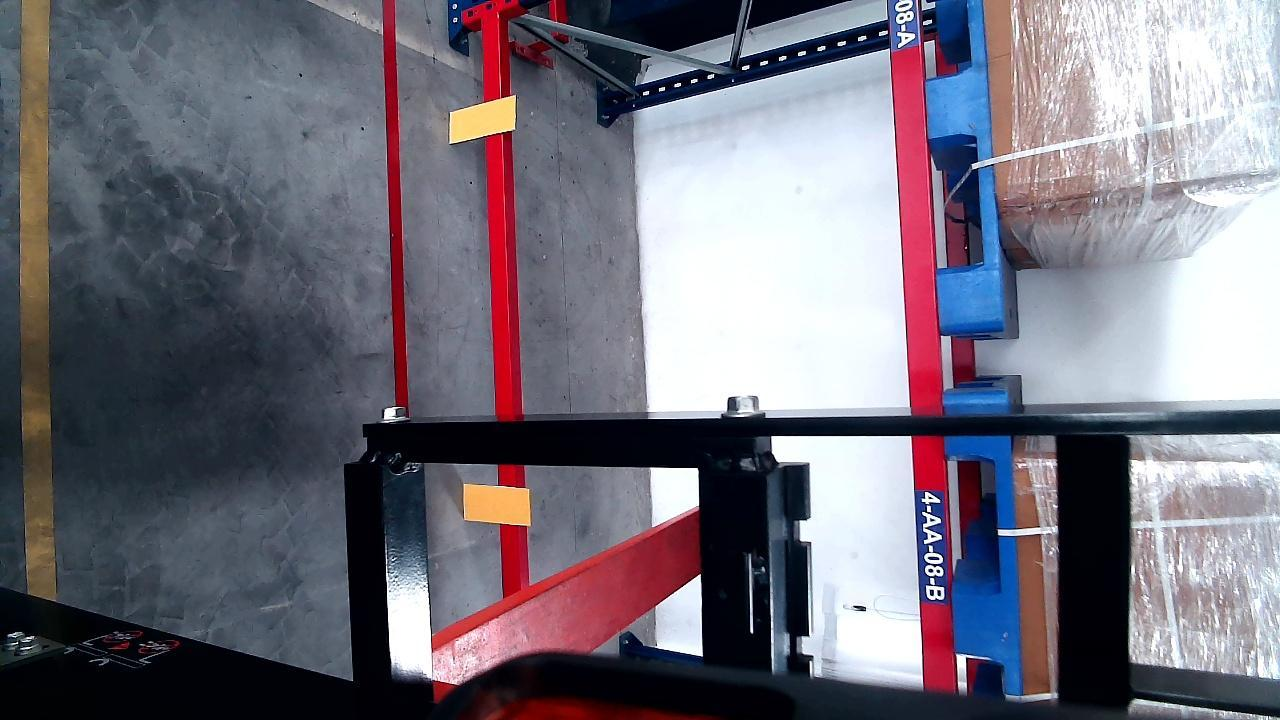red_line: (382, 0, 402, 420)
yellow_line: (18, 3, 55, 602)
